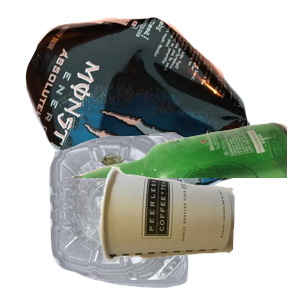glass: (60, 120, 300, 300)
metal: (23, 15, 263, 195)
plastic: (46, 130, 227, 300)
trash: (95, 164, 300, 300)
